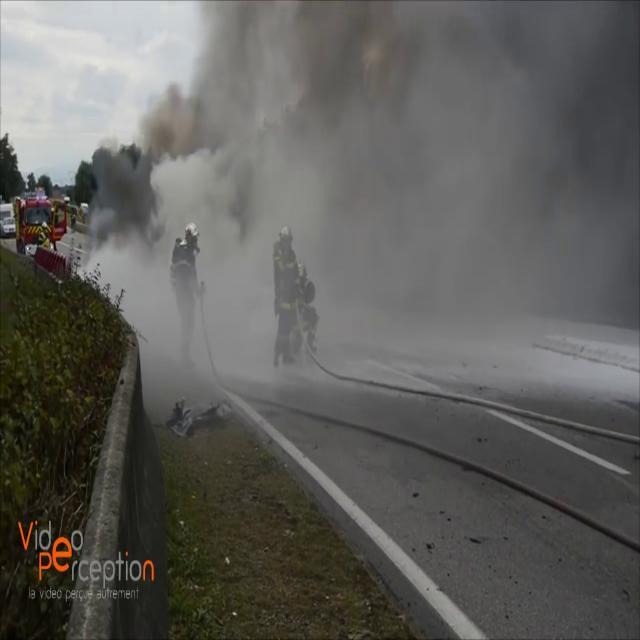Smoke: (90, 0, 640, 404)
